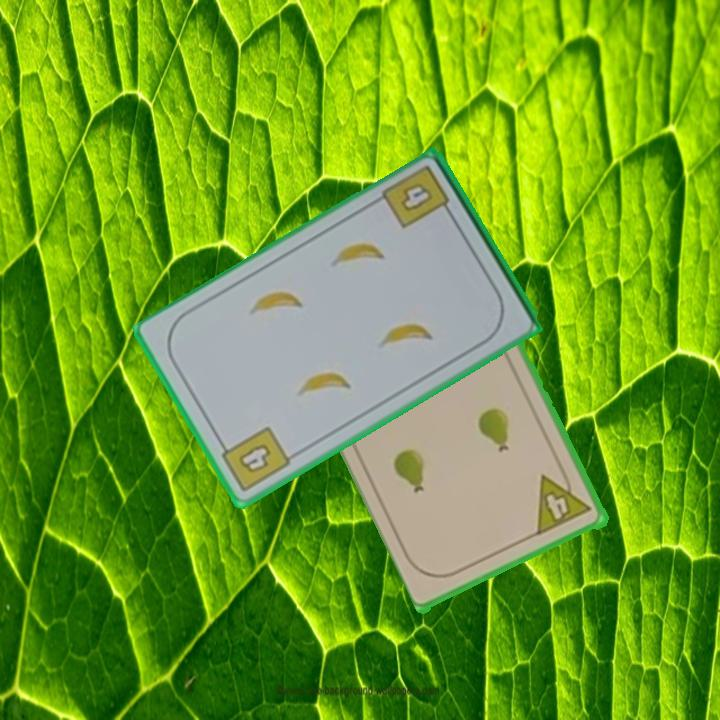4b: (214, 423, 294, 496), (378, 162, 456, 232)
4p: (533, 464, 595, 538)
